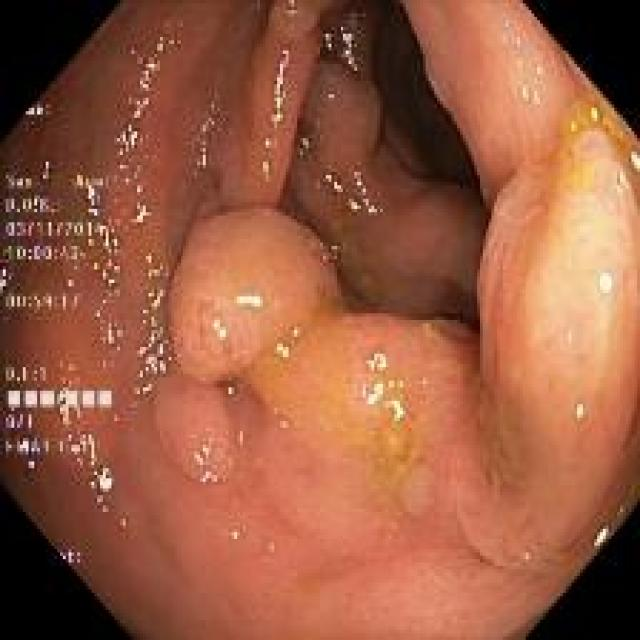Polyps: (409, 4, 640, 577), (282, 12, 488, 323), (170, 208, 344, 385), (155, 367, 235, 486), (271, 49, 290, 127)
